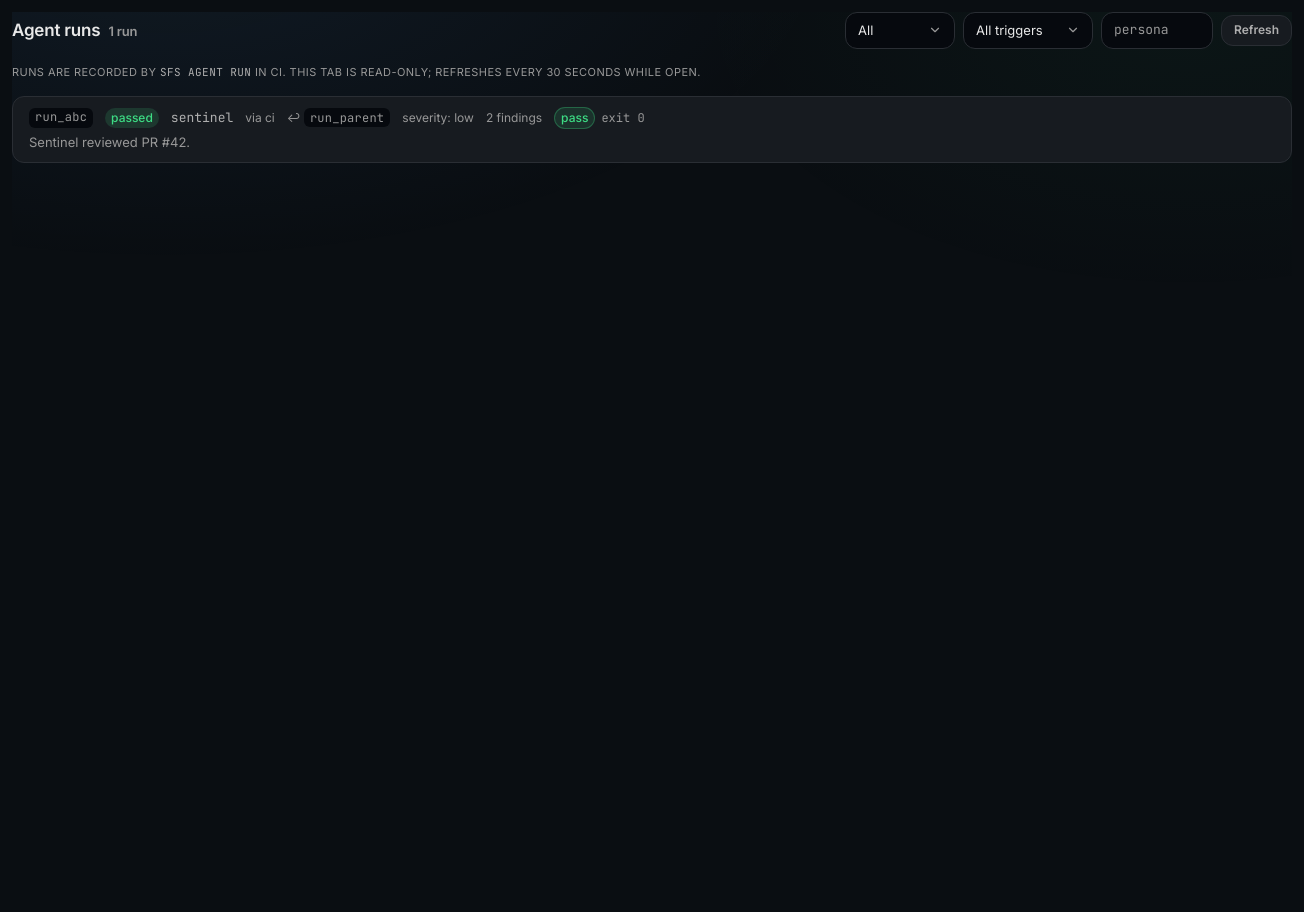
AgentRunsTab › shows a replayed-from link on child runs
Step 1. Click the text "run_abc" → coordinates (61, 118), box left=29, top=108, right=93, bottom=128
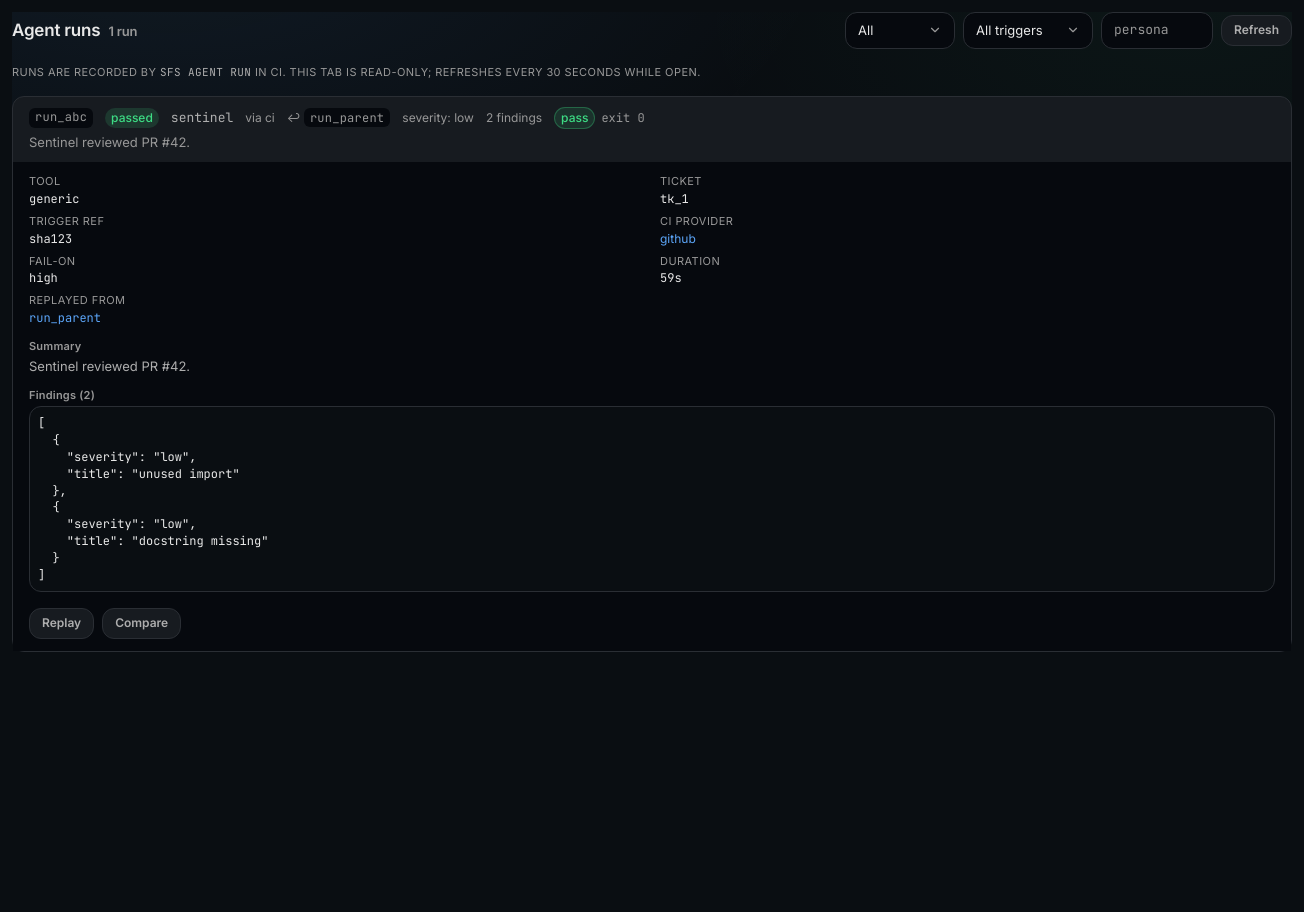
Expected: the text "Replayed from" is shown, left=29, top=293, right=126, bottom=307
Expected: the button "run_parent" is shown, left=29, top=310, right=101, bottom=327
